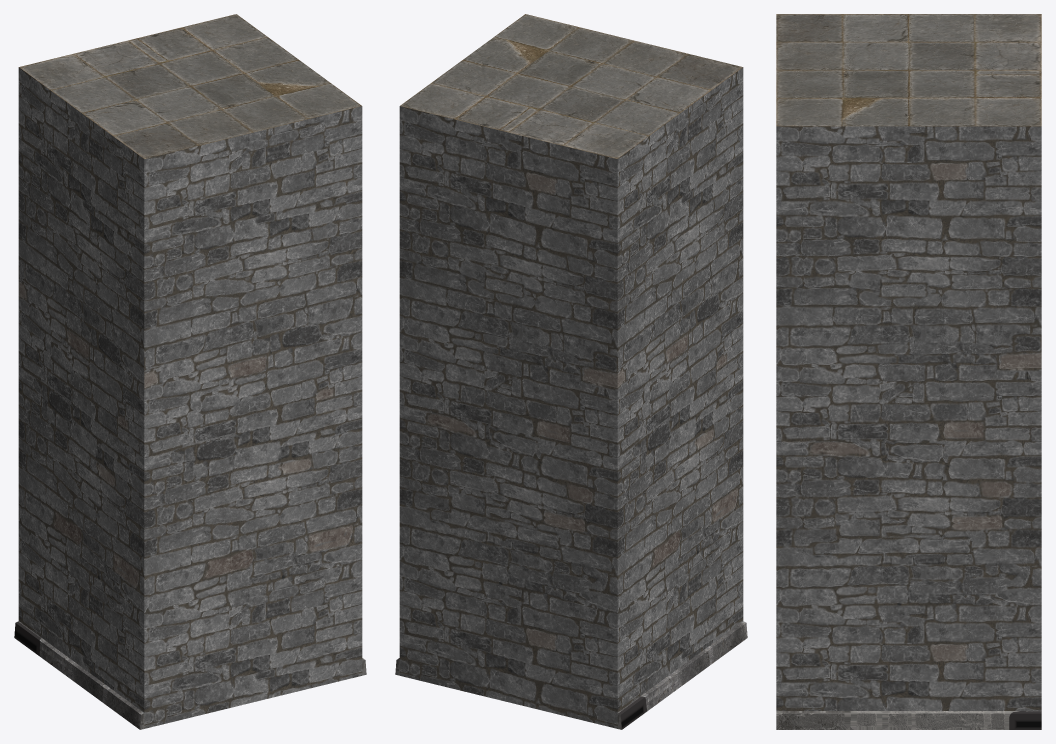
Rendered from MC_Castle_Wall_B_4m.fbx.
3 renders of one model, left to right at view 1: azimuth 30°, elevation 25°; view 2: azimuth 150°, elevation 25°; view 3: azimuth 270°, elevation 25°, orthographic. The views are drawn at different scales.
Visible parts, largest first — view 1: MC_Castle_Wall_B_4m; view 2: MC_Castle_Wall_B_4m; view 3: MC_Castle_Wall_B_4m.
Part boxes in pixels (left/top/right/bottom): MC_Castle_Wall_B_4m: left=14, top=14, right=366, bottom=729; MC_Castle_Wall_B_4m: left=395, top=14, right=747, bottom=729; MC_Castle_Wall_B_4m: left=776, top=14, right=1041, bottom=729.
Size of the model in its own units: 416 by 1000 by 400.
